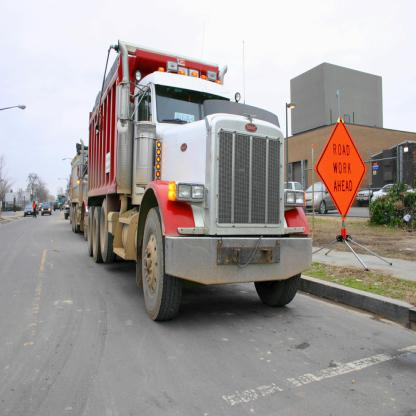Car: (305, 181, 336, 214), (373, 182, 414, 203), (286, 179, 304, 205), (356, 184, 370, 203), (40, 201, 52, 213)
Truck: (68, 36, 311, 327), (69, 138, 89, 238), (62, 187, 70, 220), (53, 192, 66, 211)
